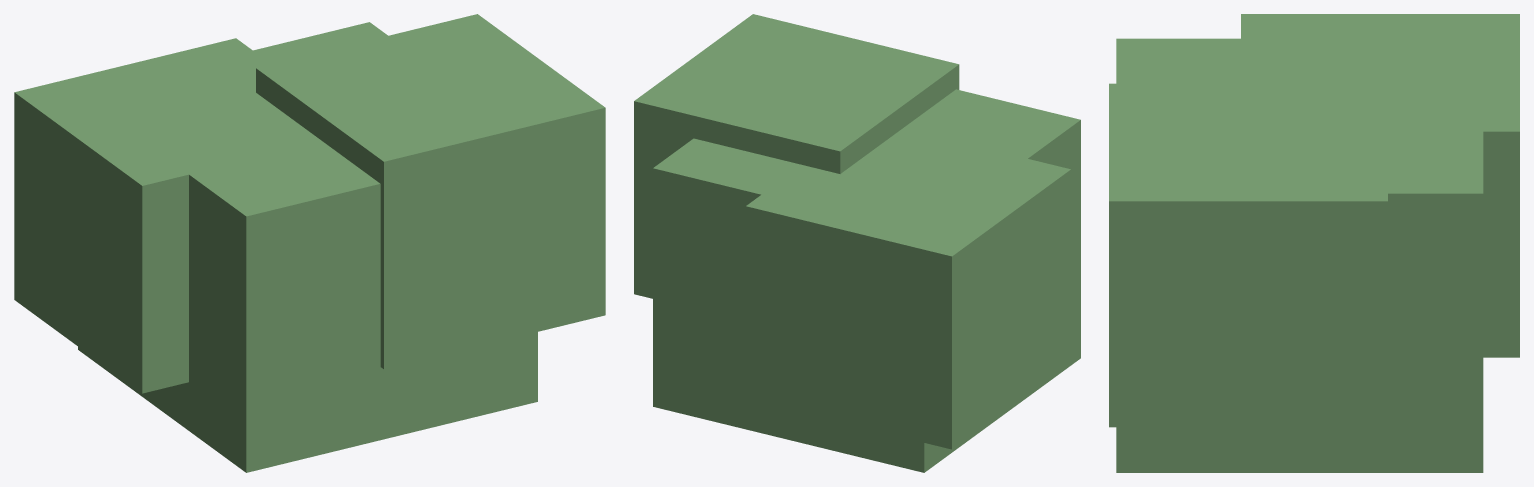
Rendered from forest-bush.gltf.
3 renders of one model, left to right at view 1: azimuth 30°, elevation 25°; view 2: azimuth 150°, elevation 25°; view 3: azimuth 270°, elevation 25°, orthographic. The views are drawn at different scales.
Visible parts, largest first — view 1: Bush; view 2: Bush; view 3: Bush.
Part boxes in pixels (box(x1,y1,x2,y2)): Bush: box(14, 14, 605, 472); Bush: box(634, 14, 1080, 472); Bush: box(1109, 14, 1519, 472).
Size of the model in its own units: 0.69 by 0.46 by 0.56.
